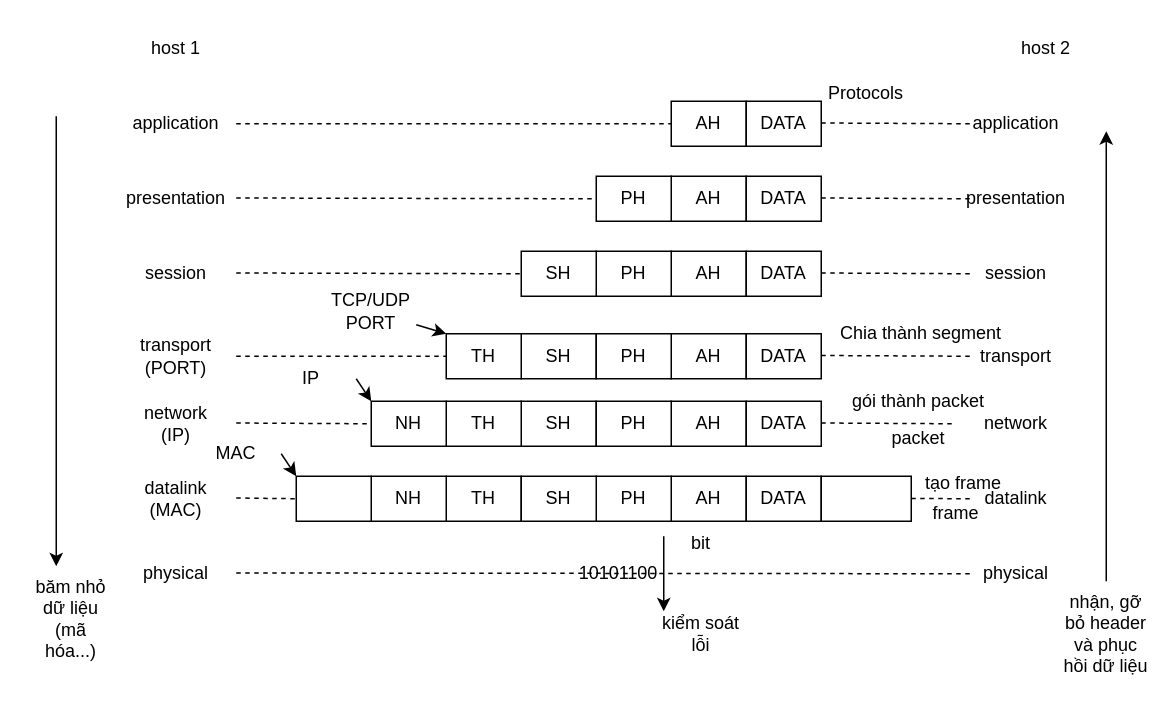
This 1176x702 diagram has some shape labels left out. Each missing label, with the centre of its shape:
"controller" belongs at pixel 865 498.
"DH" belongs at pixel 333 498.
